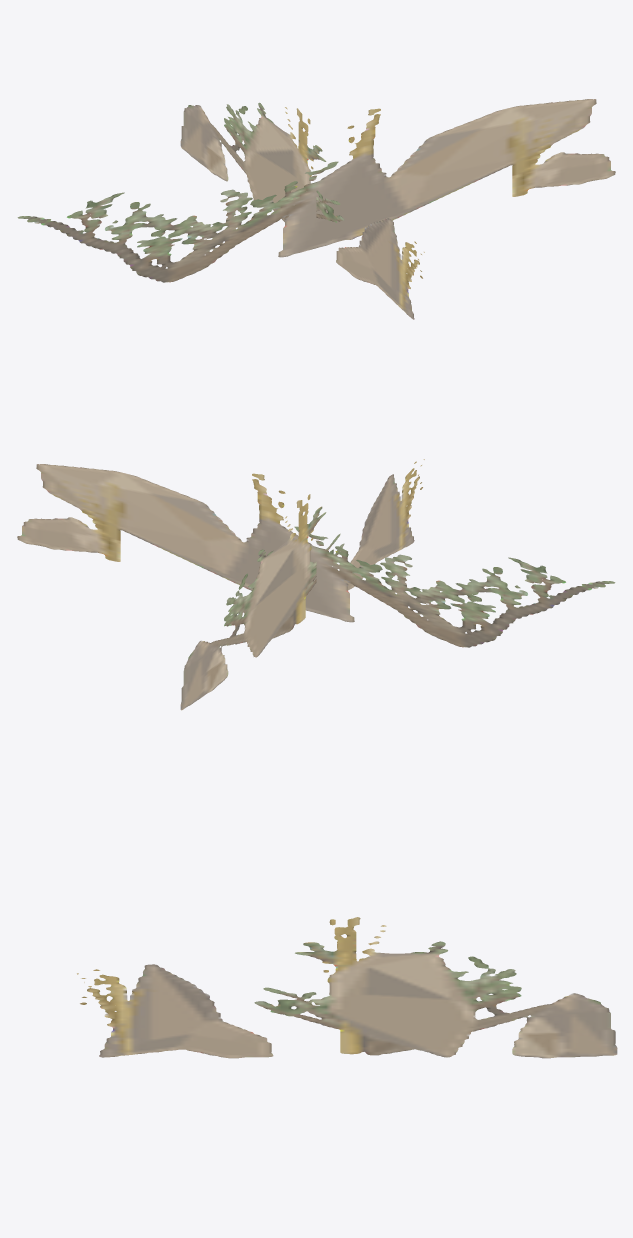
File: rock-and-spreading-shrub-far.glb
3 renders of one model, top to bottom at view 1: azimuth 30°, elevation 25°; view 2: azimuth 150°, elevation 25°; view 3: azimuth 270°, elevation 25°, orthographic. The views are drawn at different scales.
Size of the model in its own units: 1.45 by 0.3138 by 1.13.
Materials: 1 (1 with a texture image).
